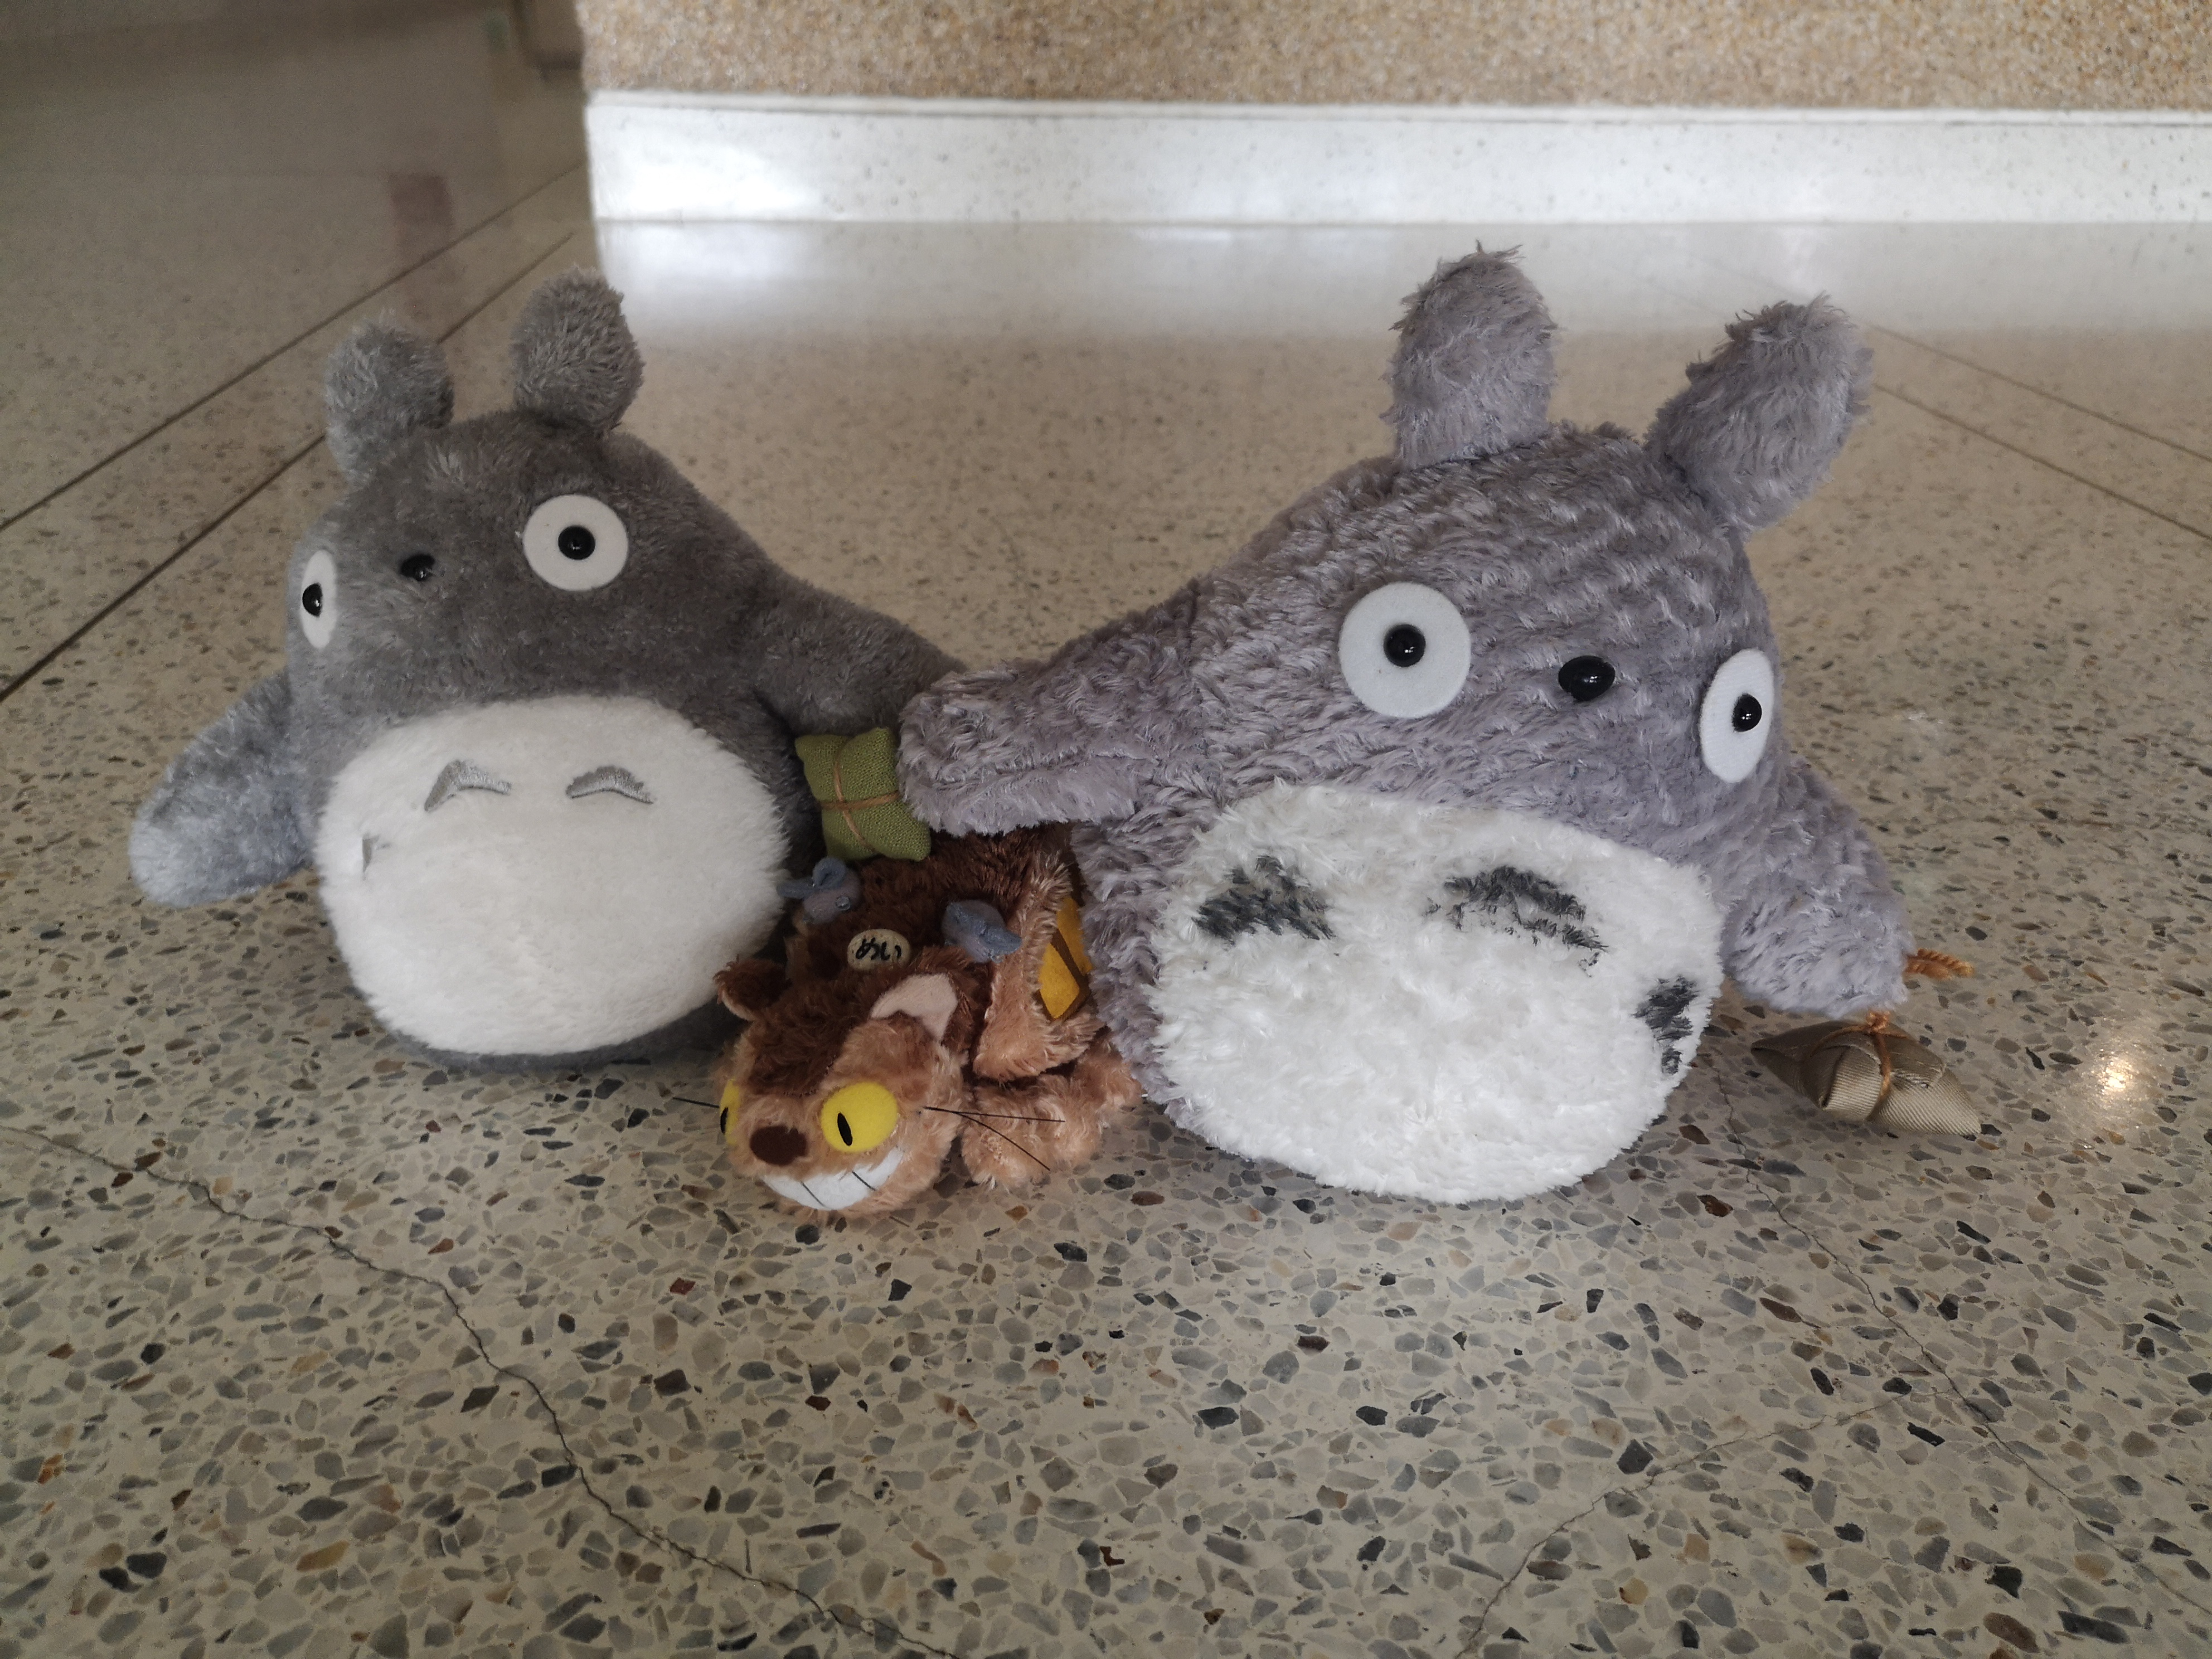nekobus: (707, 838, 1122, 1225)
totoro: (904, 237, 1993, 1213), (115, 270, 951, 1079)
